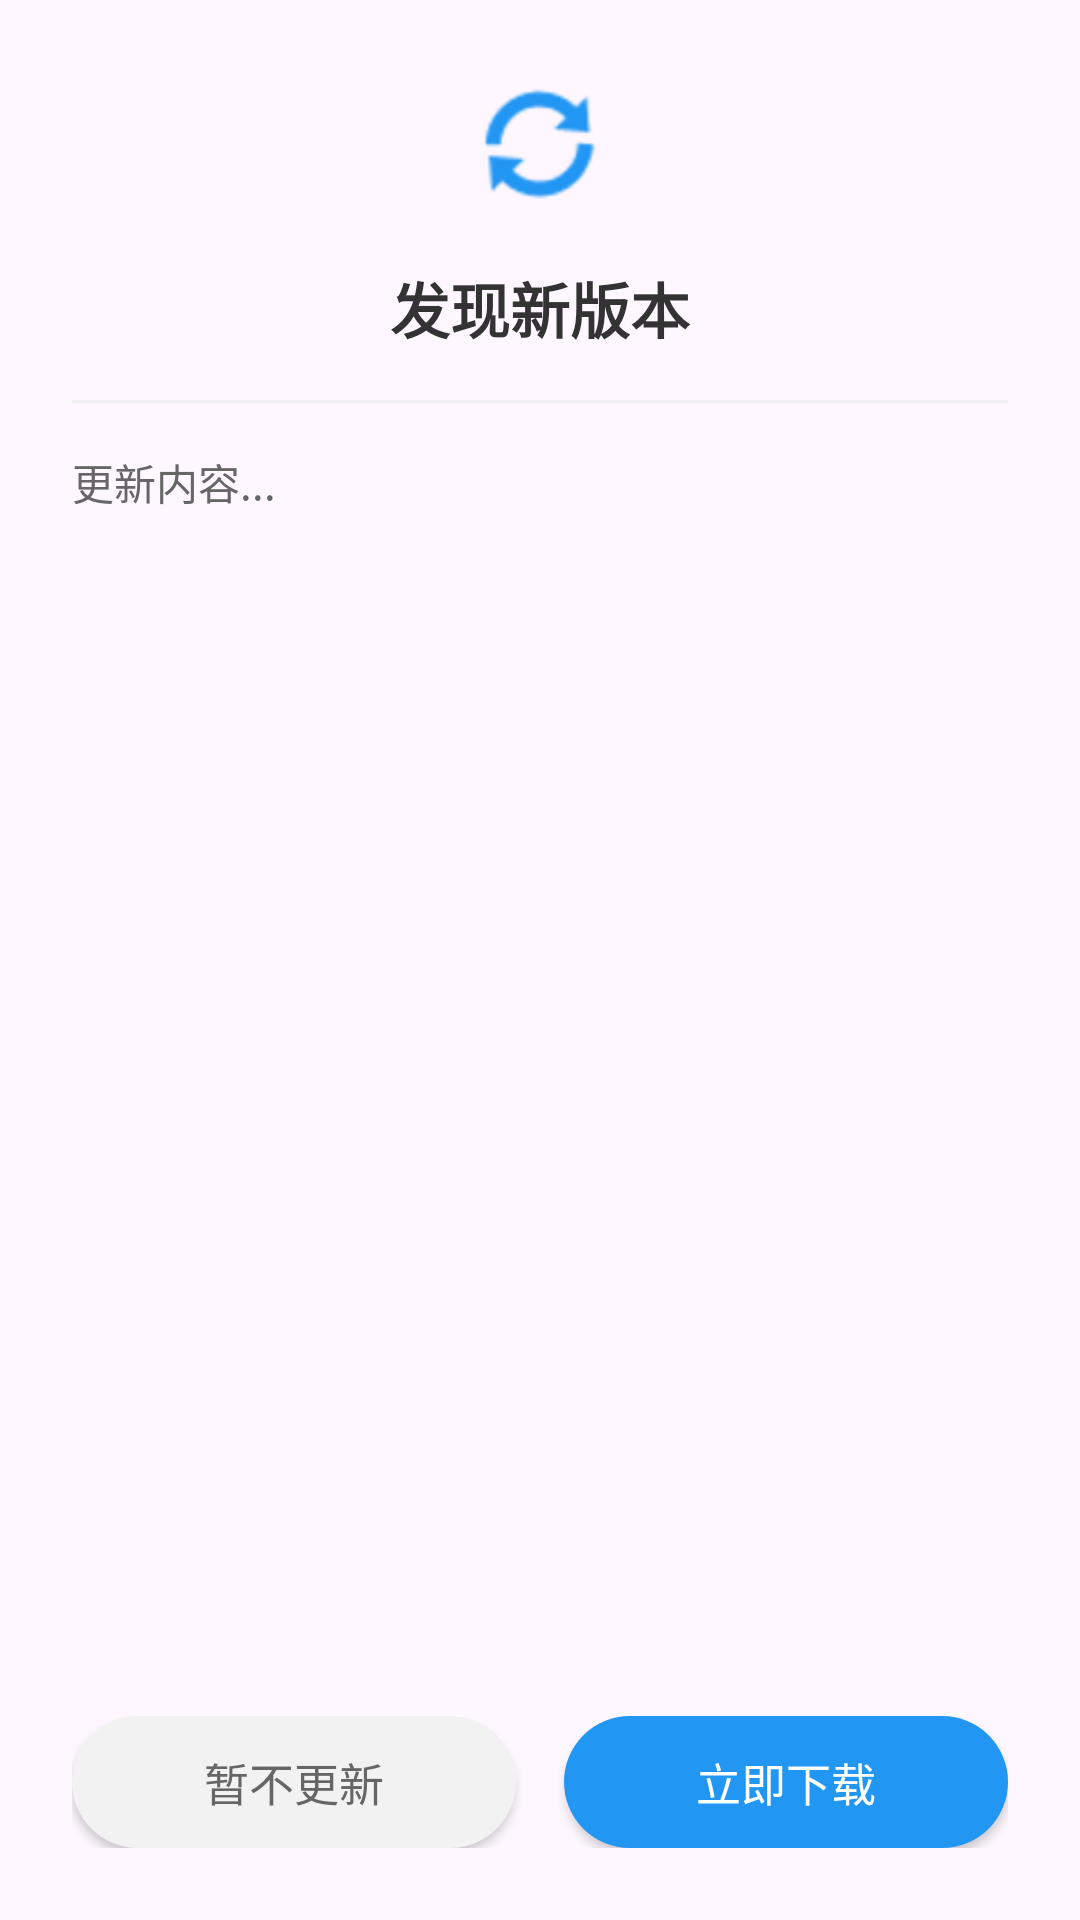

Where icons sit on this 1080*1920 app screen, as bbox=(x1, y1, x2, y2):
popup sync: bbox=(485, 89, 595, 199)
